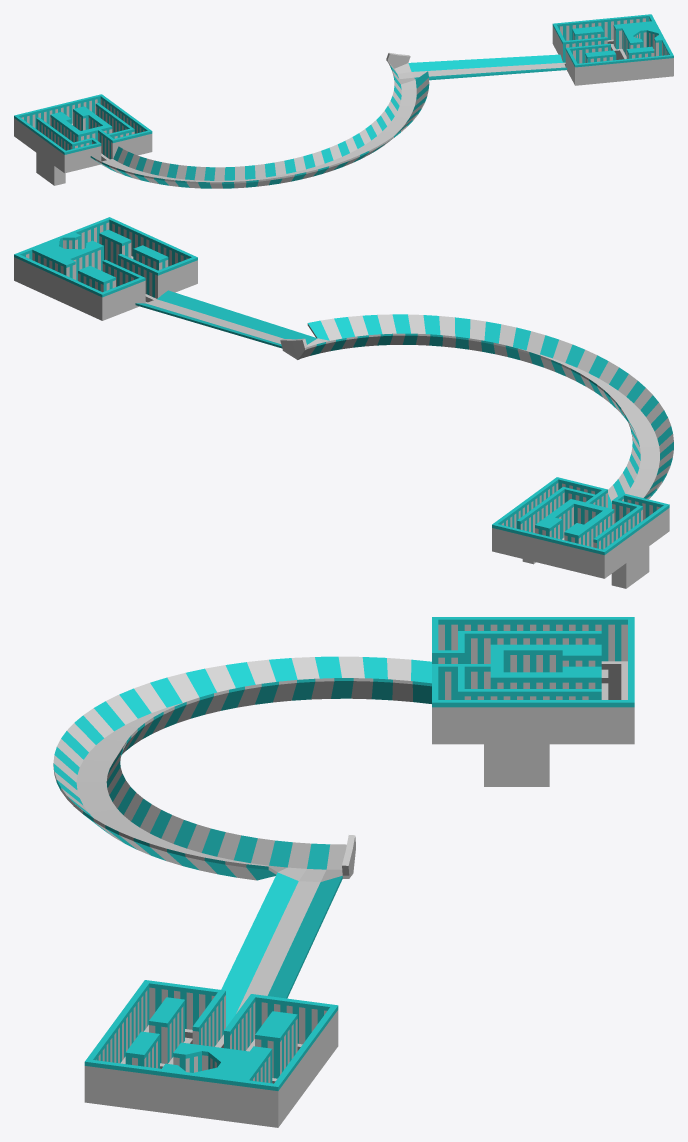
Rendered from levelmoon2.fbx.
3 views of the same model, one above another, from view 1: azimuth 30°, elevation 25°; view 2: azimuth 150°, elevation 25°; view 3: azimuth 270°, elevation 25° (orthographic). The views are drawn at different scales.
Visible parts, largest first — view 1: Cube, Plane, Plane.001; view 2: Cube, Plane, Plane.001; view 3: Cube, Plane, Plane.001.
Part boxes in pixels (x1,y1,x2,y2): Cube: (90, 52, 567, 188); Plane: (14, 94, 152, 185); Plane.001: (552, 14, 673, 85); Cube: (135, 290, 673, 508); Plane: (492, 477, 669, 588); Plane.001: (14, 217, 197, 320); Cube: (53, 656, 431, 1027); Plane: (432, 617, 634, 786); Plane.001: (84, 980, 338, 1127).
Bounding box in the file's own units: 10002 × 1450 × 4587.
